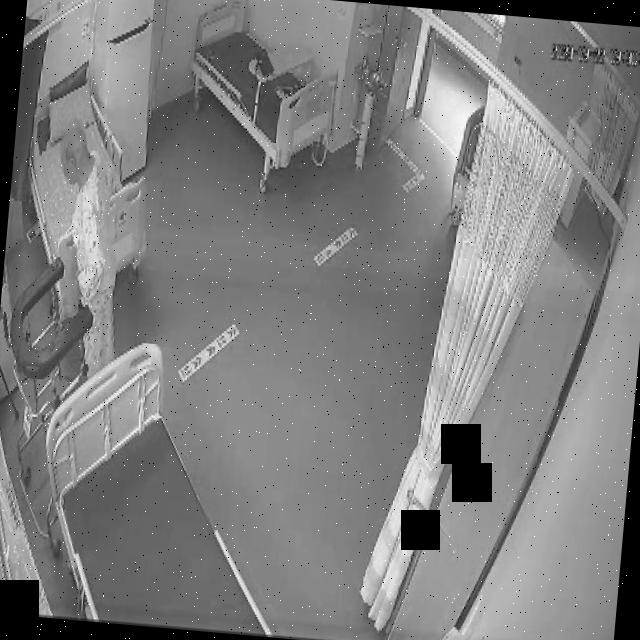bed: (30, 336, 294, 634), (15, 70, 164, 310), (180, 0, 344, 174)
patient: (40, 120, 135, 358)
stand: (38, 119, 132, 368)
walker: (0, 249, 100, 497)
